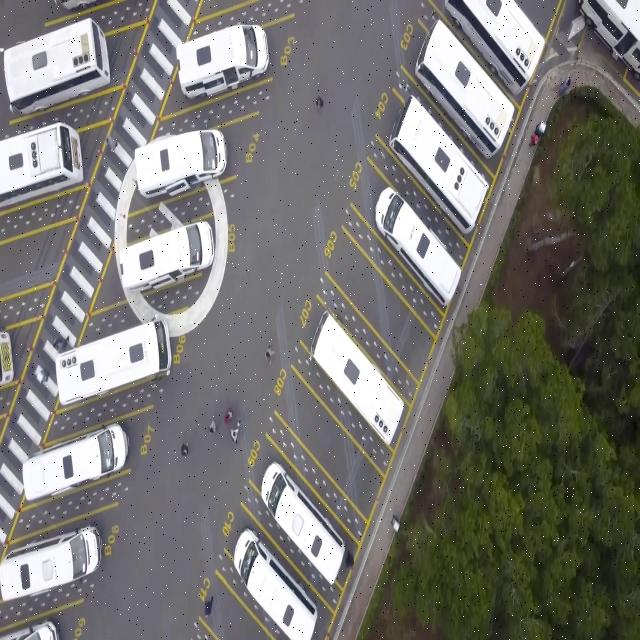people: (204, 594, 214, 616), (264, 344, 274, 365), (345, 551, 354, 572), (106, 135, 116, 152), (54, 337, 65, 352), (208, 420, 217, 435), (230, 428, 239, 443), (315, 96, 323, 109), (181, 442, 188, 456), (237, 415, 243, 426), (228, 409, 232, 420)
